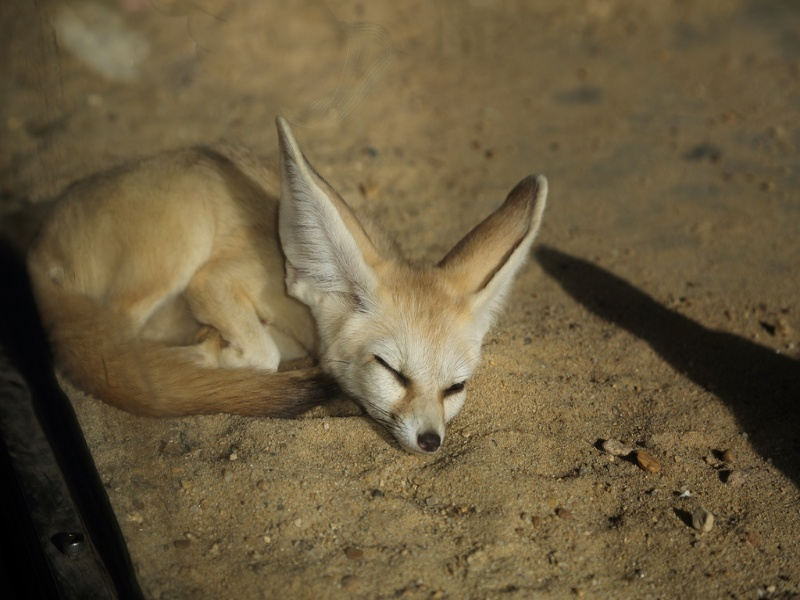fox: (25, 125, 555, 467)
